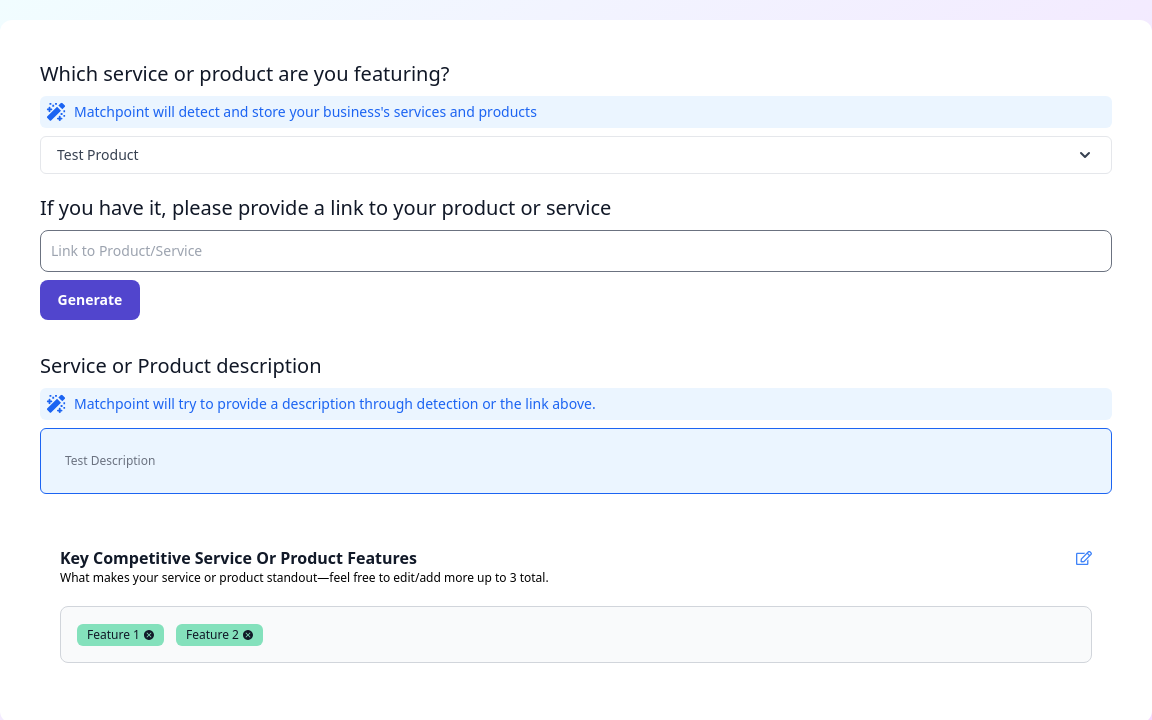
ServiceForm › handles product scraping with valid URL
This screenshot has width=1152, height=720.
In the field with placeholder "Link to Product/Service": (576, 251) [51,241,1101,261], type "https://example.com/product"
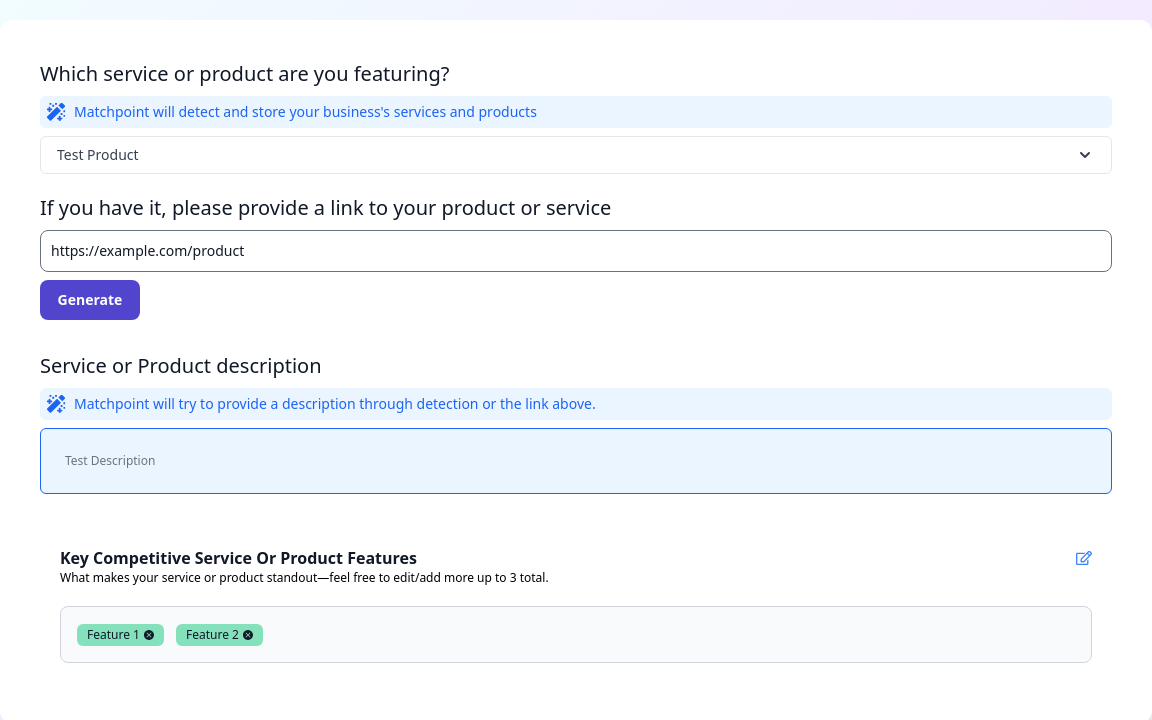
Click the button "Generate": (90, 300) [40,280,140,320]
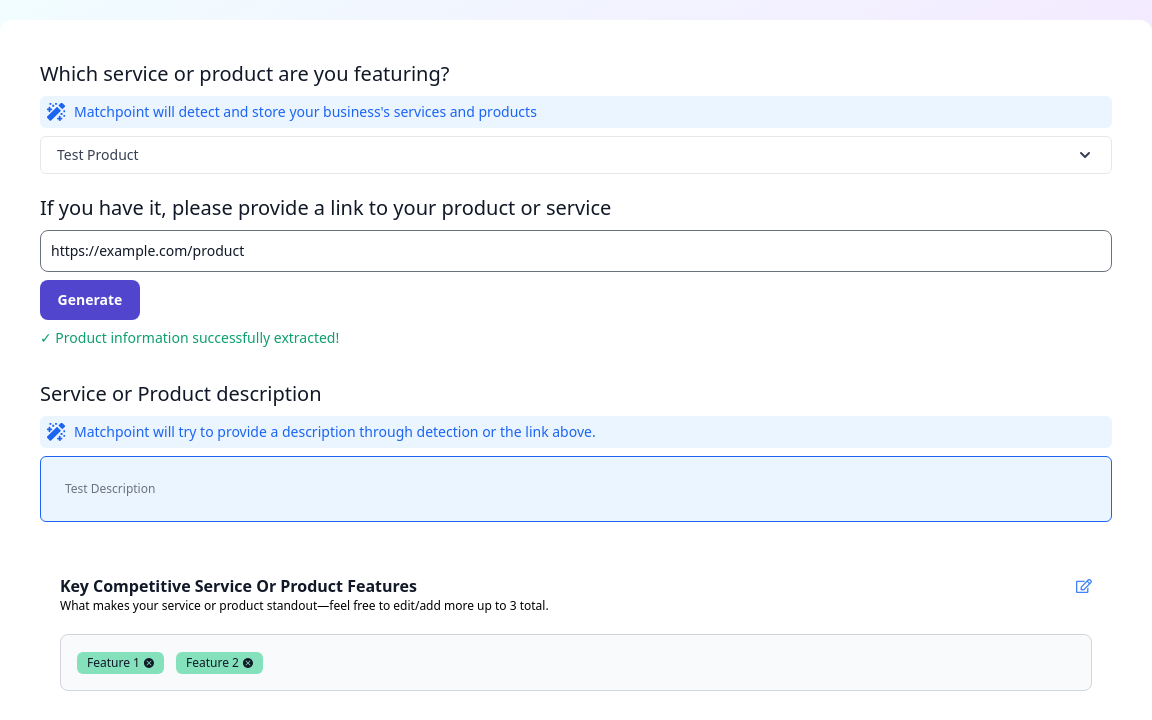
Now the text "✓ Product information successfully extracted!" is shown, box [40,328,339,347]
